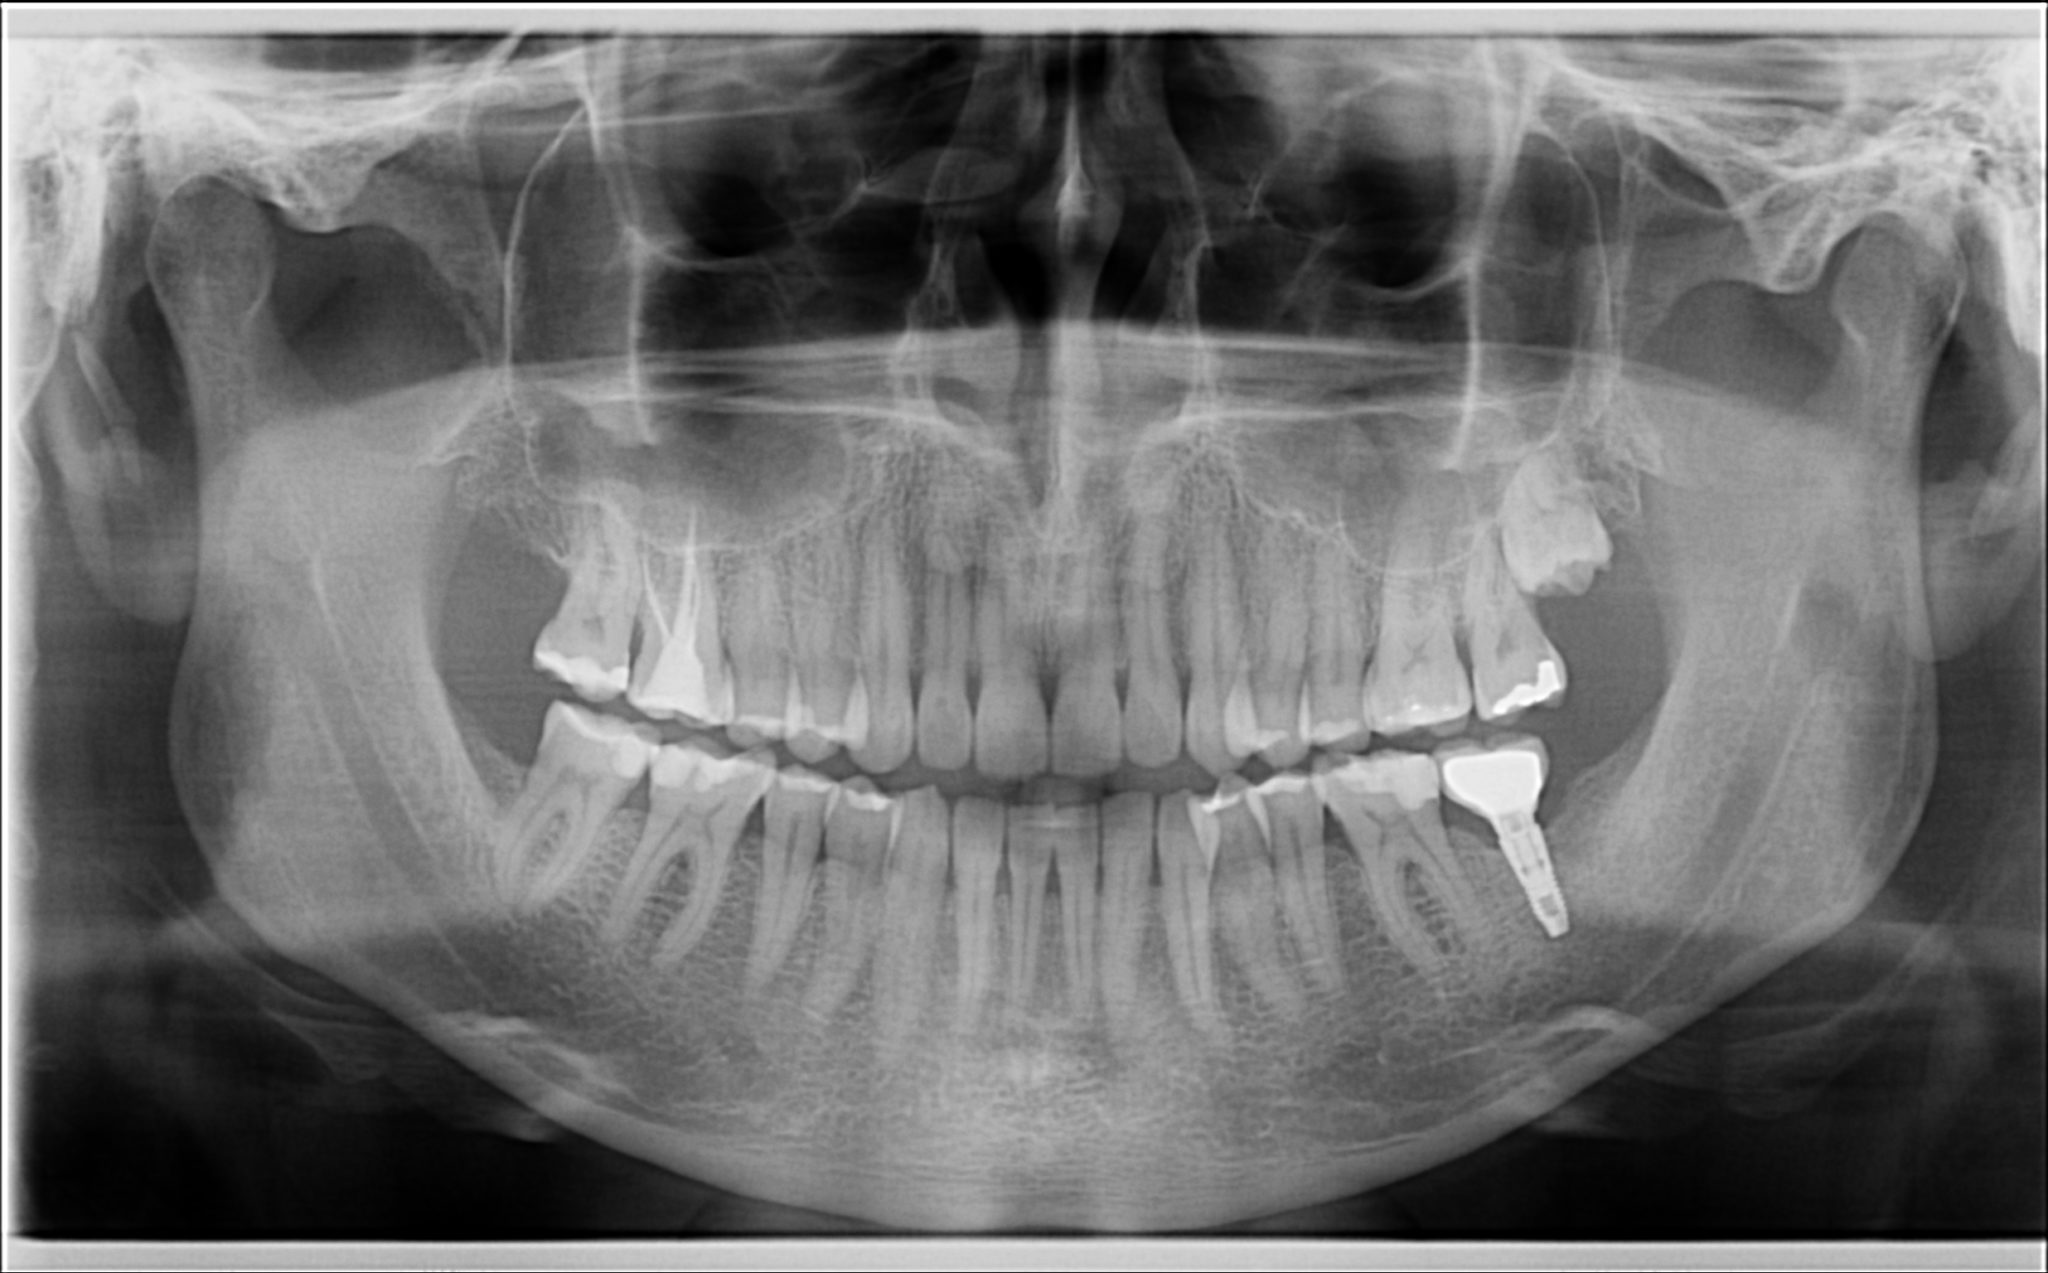canine: (1152, 776, 1223, 1046), (846, 529, 915, 774), (1189, 531, 1258, 773), (885, 777, 949, 1034)
incisor: (970, 557, 1050, 779), (1050, 557, 1126, 780), (949, 790, 1006, 1021), (1126, 557, 1185, 766), (1101, 788, 1154, 1016), (915, 557, 970, 768), (1053, 798, 1102, 1019), (1006, 798, 1056, 1016)
molar: (1314, 755, 1497, 994), (641, 723, 778, 1013), (498, 702, 658, 922), (1428, 736, 1577, 953), (526, 441, 645, 705), (1363, 477, 1476, 741), (627, 465, 739, 732), (1465, 491, 1574, 730), (1489, 441, 1618, 598)
premolar: (1193, 773, 1292, 1027), (1252, 771, 1349, 999), (1294, 509, 1380, 757), (824, 768, 902, 1038), (790, 524, 875, 761), (1227, 534, 1319, 752), (720, 512, 803, 749), (756, 752, 837, 997)
